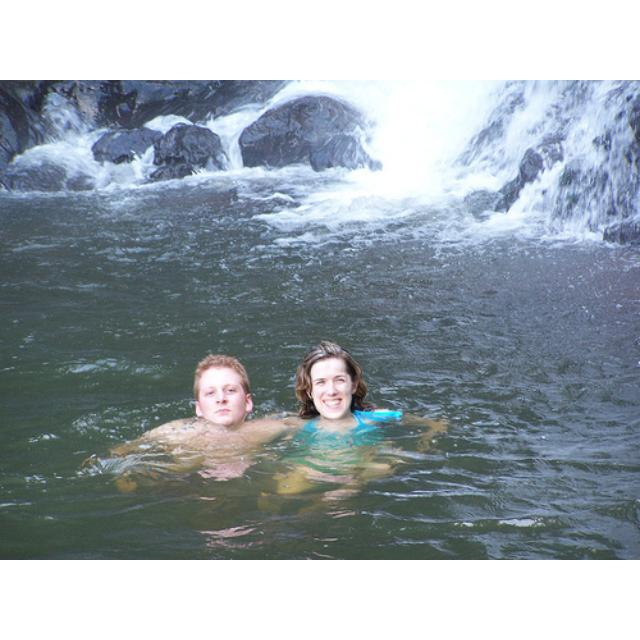human: (129, 338, 290, 471), (287, 339, 417, 488)
